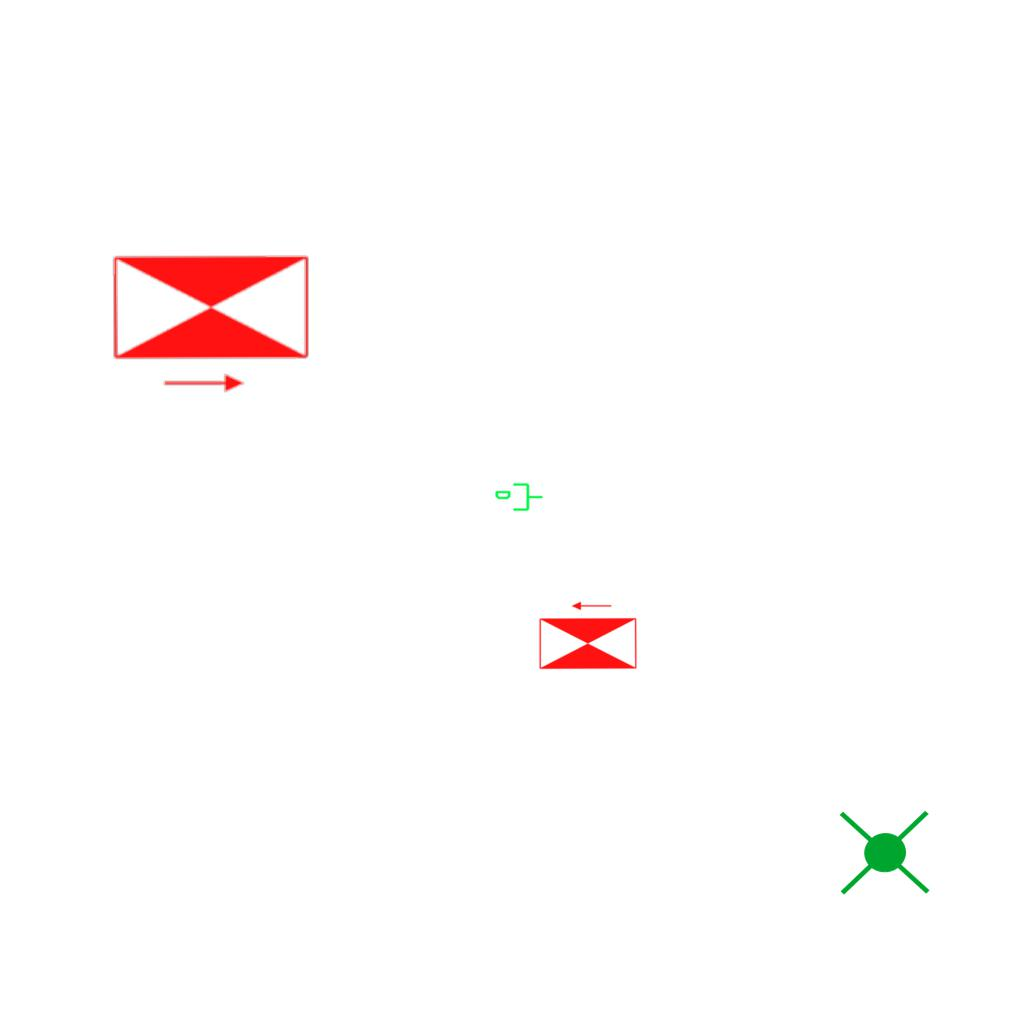Datenanschluss_einfach: (494, 481, 544, 515)
Fluchtwegpiktogramm: (107, 250, 315, 397), (536, 599, 640, 672)
Notlichtbaustein_in_Allgemeinbeleuchtug_engebaut_Einbau_(1UG_und_2UG_Aufbauvaria: (835, 800, 935, 903)
